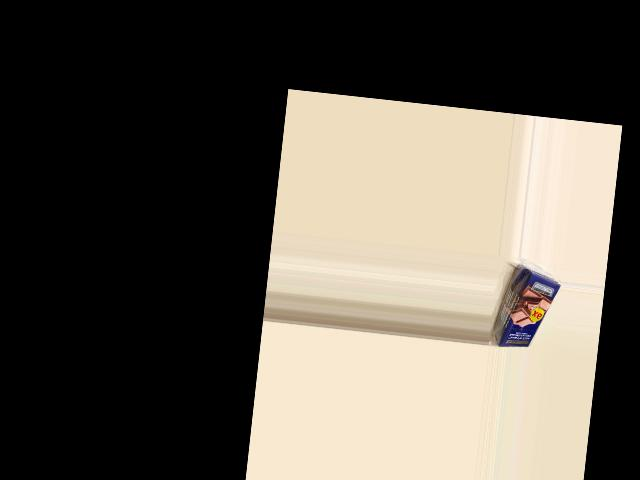chocolate: (493, 268, 562, 352)
